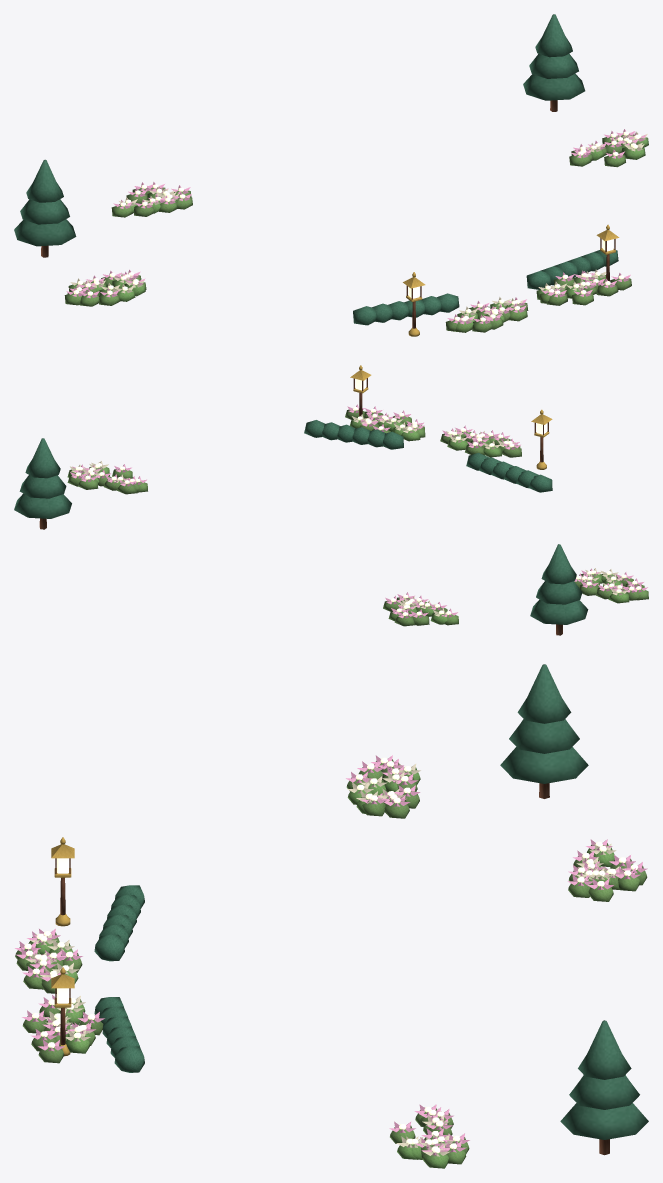
The model's file is royal-garden-dressing.glb.
The picture shows the model from 3 angles, top to bottom: view 1: azimuth 30°, elevation 25°; view 2: azimuth 150°, elevation 25°; view 3: azimuth 270°, elevation 25°; orthographic projection. The views are drawn at different scales.
Parts seen in each view (by area): view 1: royal-garden-dressing; view 2: royal-garden-dressing; view 3: royal-garden-dressing.
Part boxes in pixels (box(x1,y1,x2,y2)): royal-garden-dressing: box(14, 14, 648, 336); royal-garden-dressing: box(14, 365, 648, 635); royal-garden-dressing: box(15, 664, 648, 1168).
Bounding box in the file's own units: 14.28 × 2.18 × 9.5.
Materials: 7 (7 with a texture image).
